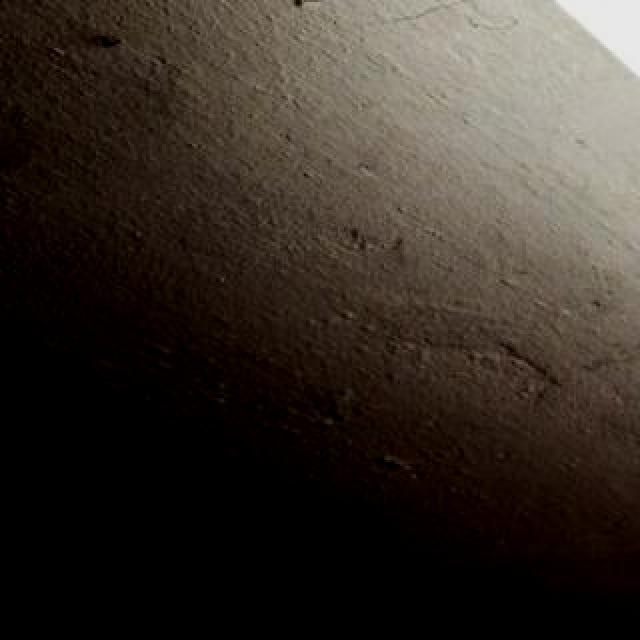fluorescent tube: (358, 0, 640, 640)
